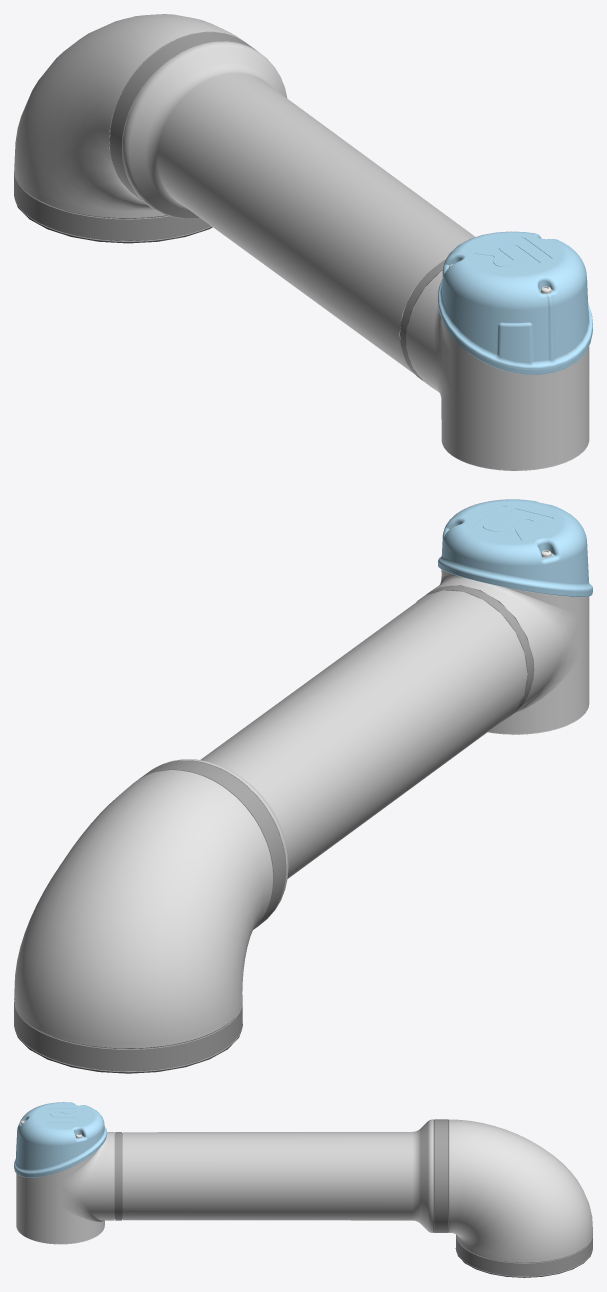
File: ur5e_elbow.glb
The picture shows the model from 3 angles, top to bottom: view 1: azimuth 30°, elevation 25°; view 2: azimuth 150°, elevation 25°; view 3: azimuth 270°, elevation 25°; orthographic projection. The views are drawn at different scales.
Parts seen in each view (by area): view 1: Link3_UR5_STEP; view 2: Link3_UR5_STEP; view 3: Link3_UR5_STEP.
Part boxes in pixels (left/top/right/bottom): Link3_UR5_STEP: left=14, top=14, right=592, bottom=470; Link3_UR5_STEP: left=14, top=499, right=592, bottom=1073; Link3_UR5_STEP: left=14, top=1102, right=592, bottom=1277.
Bounding box in the file's own units: 0.116 × 0.1238 × 0.4896.
